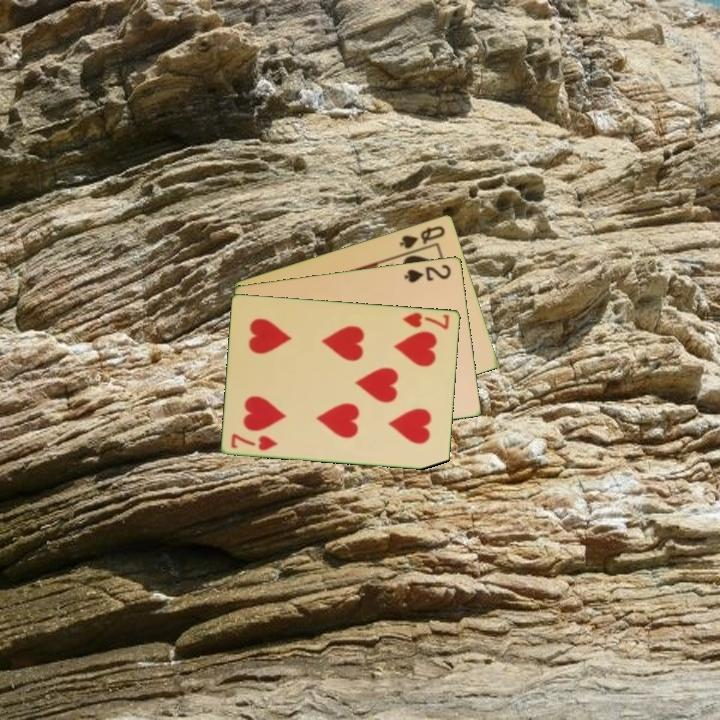2s: (401, 261, 454, 285)
7h: (399, 309, 452, 332), (228, 430, 281, 453)
Qs: (396, 222, 448, 251)
